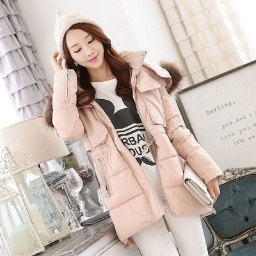face: (60, 23, 132, 77)
